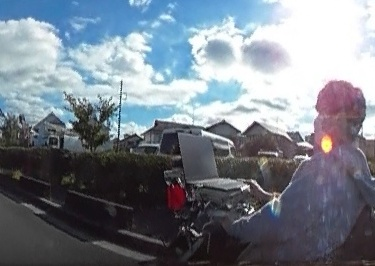person: (223, 78, 375, 257)
